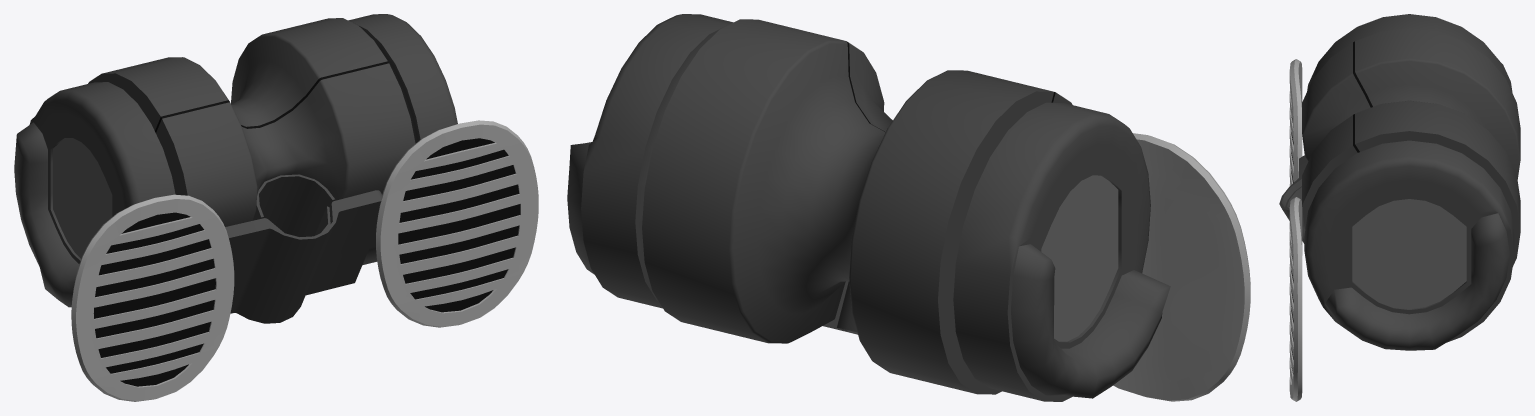
File: loud-bicycle-classic-horn.glb
3 renders of one model, left to right at view 1: azimuth 30°, elevation 25°; view 2: azimuth 150°, elevation 25°; view 3: azimuth 270°, elevation 25°, orthographic. The views are drawn at different scales.
Parts seen in each view (by area): view 1: Circle, Circle.001, Cylinder.001, Cylinder; view 2: Circle, Circle.001; view 3: Circle, Circle.001, Cylinder.001.
Part boxes in pixels (bbox=[...]): Circle: bbox=[14, 14, 457, 307]; Circle.001: bbox=[71, 120, 538, 401]; Cylinder.001: bbox=[225, 190, 382, 323]; Cylinder: bbox=[253, 174, 335, 236]; Circle: bbox=[567, 14, 1170, 401]; Circle.001: bbox=[1113, 133, 1250, 401]; Circle: bbox=[1302, 14, 1520, 350]; Circle.001: bbox=[1289, 59, 1302, 401]; Cylinder.001: bbox=[1279, 155, 1308, 243].
Bounding box in the file's own units: 0.1748 × 0.0941 × 0.0843.
Materials: 1 (1 with a texture image).
